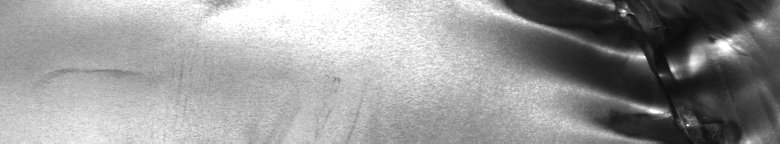ke: (496, 4, 764, 136)
